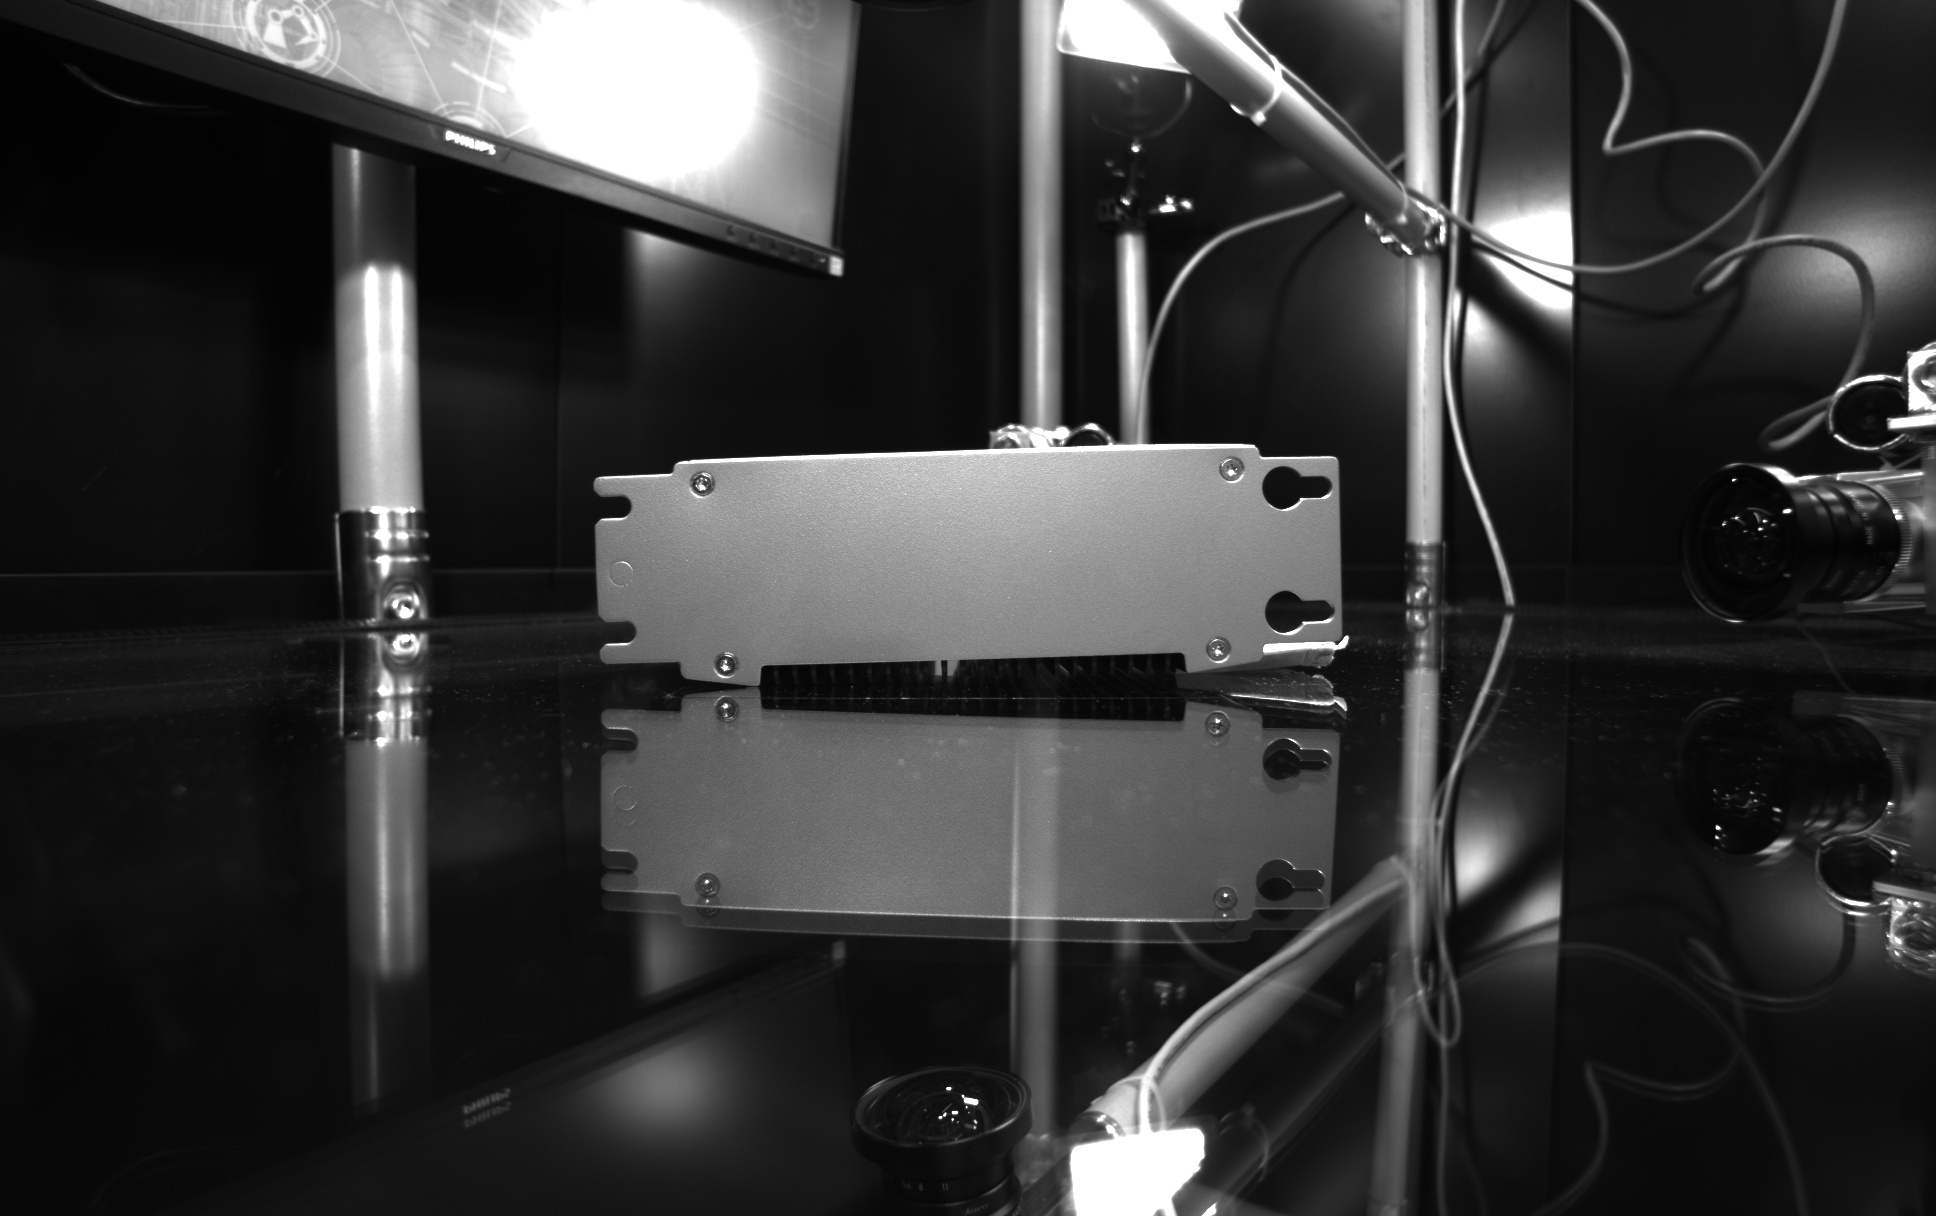CamBack: (565, 424, 1369, 691)
Schraube: (1213, 450, 1254, 490), (707, 640, 749, 679), (684, 462, 721, 500), (1201, 628, 1238, 665)
Schraube_gespiegelt: (688, 864, 728, 927), (1203, 878, 1248, 934), (707, 691, 747, 749), (1196, 706, 1240, 758)
